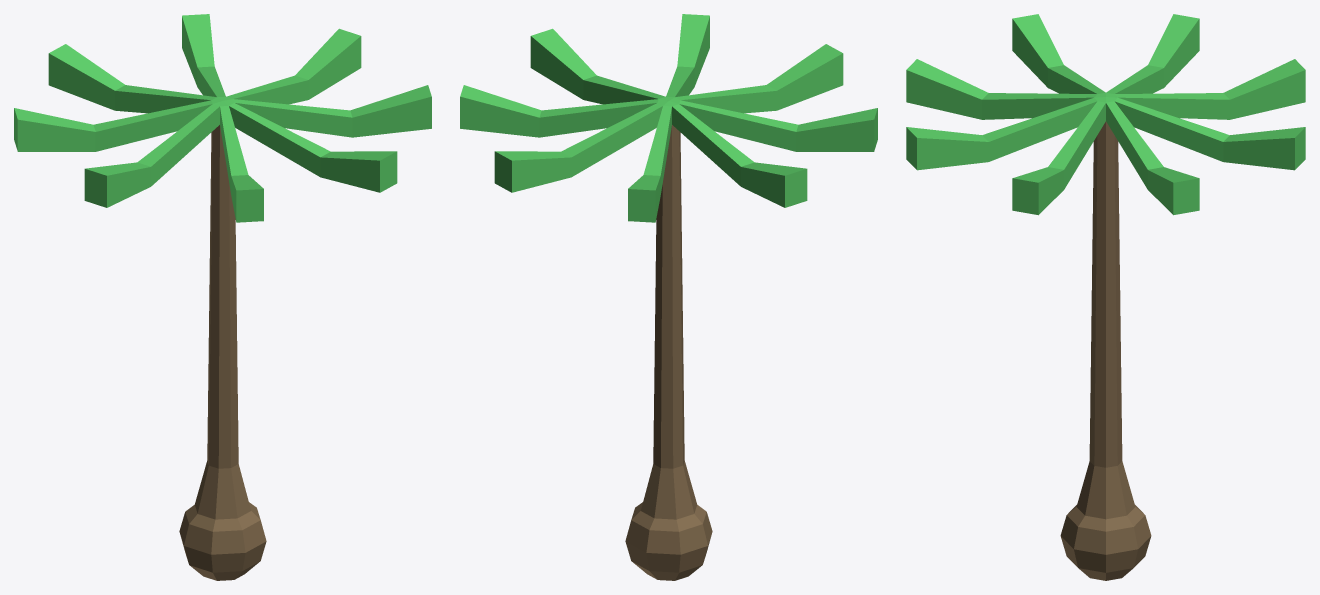
The picture shows the model from 3 angles, left to right: view 1: azimuth 30°, elevation 25°; view 2: azimuth 150°, elevation 25°; view 3: azimuth 270°, elevation 25°; orthographic projection.
Parts seen in each view (by area): view 1: Sphere.001; view 2: Sphere.001; view 3: Sphere.001.
Boxes of the visible parts, x1,y1,x2,y2 form: Sphere.001: (14, 14, 431, 580); Sphere.001: (460, 14, 877, 580); Sphere.001: (906, 14, 1305, 580).
Size of the model in its own units: 878 by 1158 by 878.
